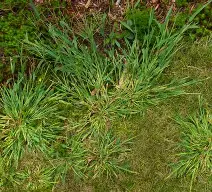weed: (2, 17, 210, 191), (53, 38, 211, 191), (56, 39, 211, 191), (126, 94, 198, 191)
